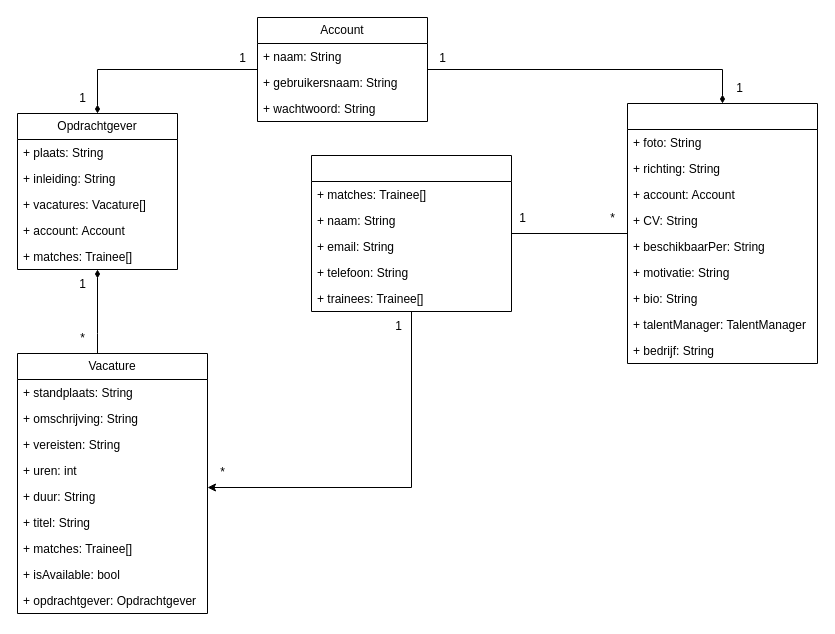
Image size: 835x634. Some labels were removed from this diagram. Here are the shapes that lost their labels. From the top down, the box of each, then its label:
(310, 154, 512, 312): TalentManager
(626, 102, 818, 364): Trainee
